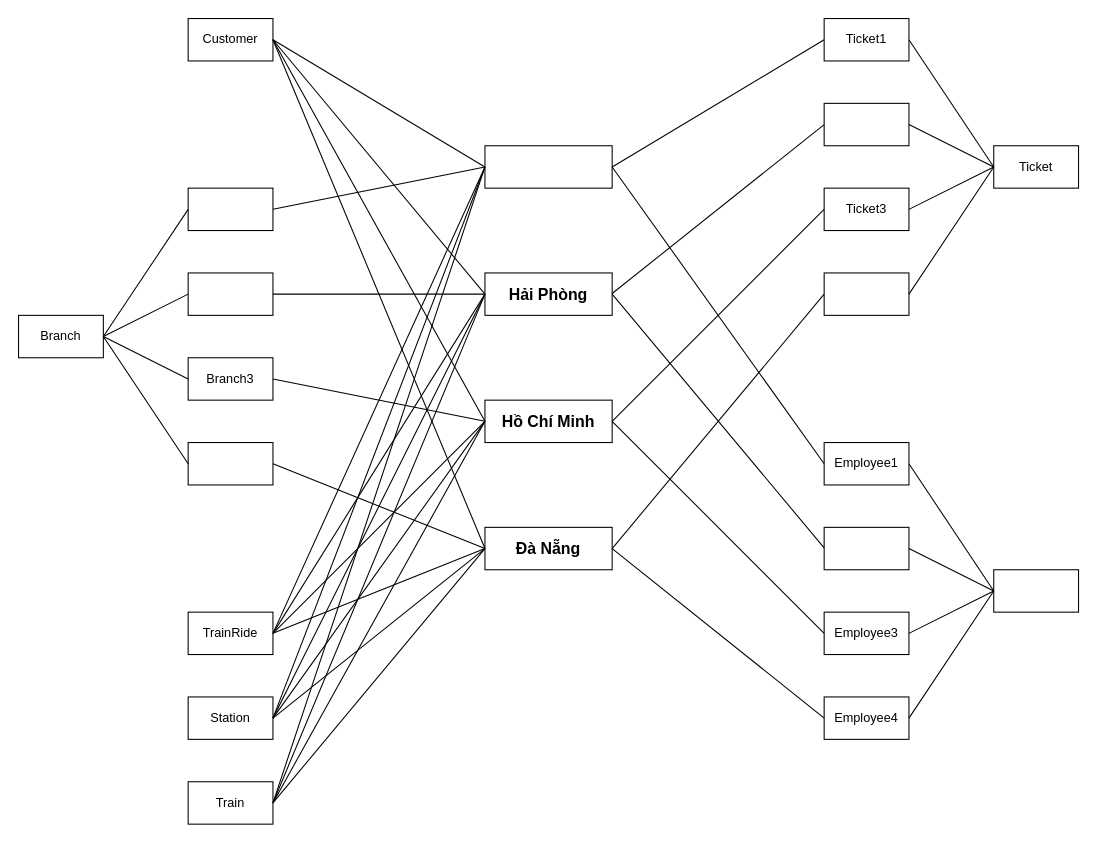
Image size: 1097x843. Some labels were removed from this diagram. Each missing label, with the centre of its shape:
"Branch1" goes at [230,209].
"Branch2" goes at [230,293].
"Branch4" goes at [230,463].
"Employee" goes at [1036,590].
"Employee2" goes at [866,548].
"Hà Nội" goes at [548,166].
"Ticke4" goes at [866,293].
"Ticket2" goes at [866,124].
